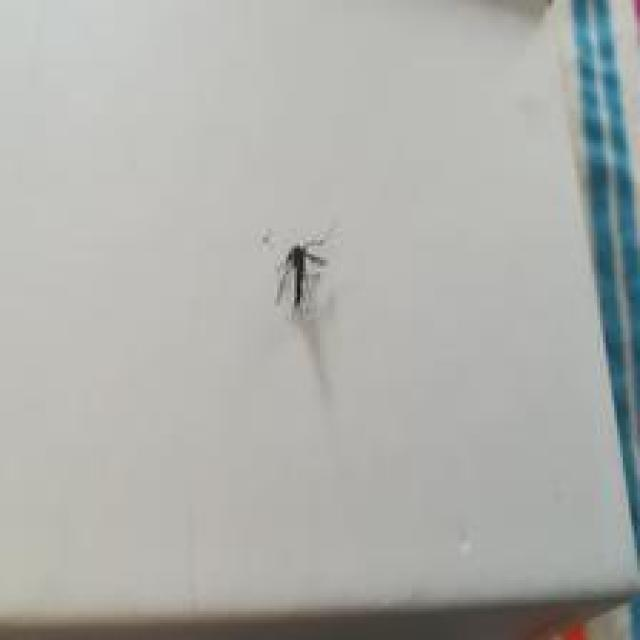Aedes albopictus: (260, 223, 337, 320)
